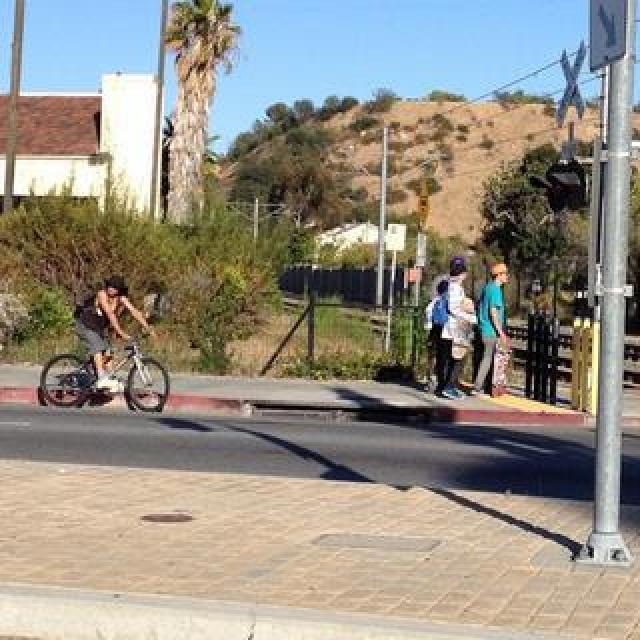MC-Bike: (80, 278, 150, 388), (434, 258, 478, 398), (472, 264, 512, 398), (424, 272, 454, 396)
Person: (37, 328, 173, 414)
